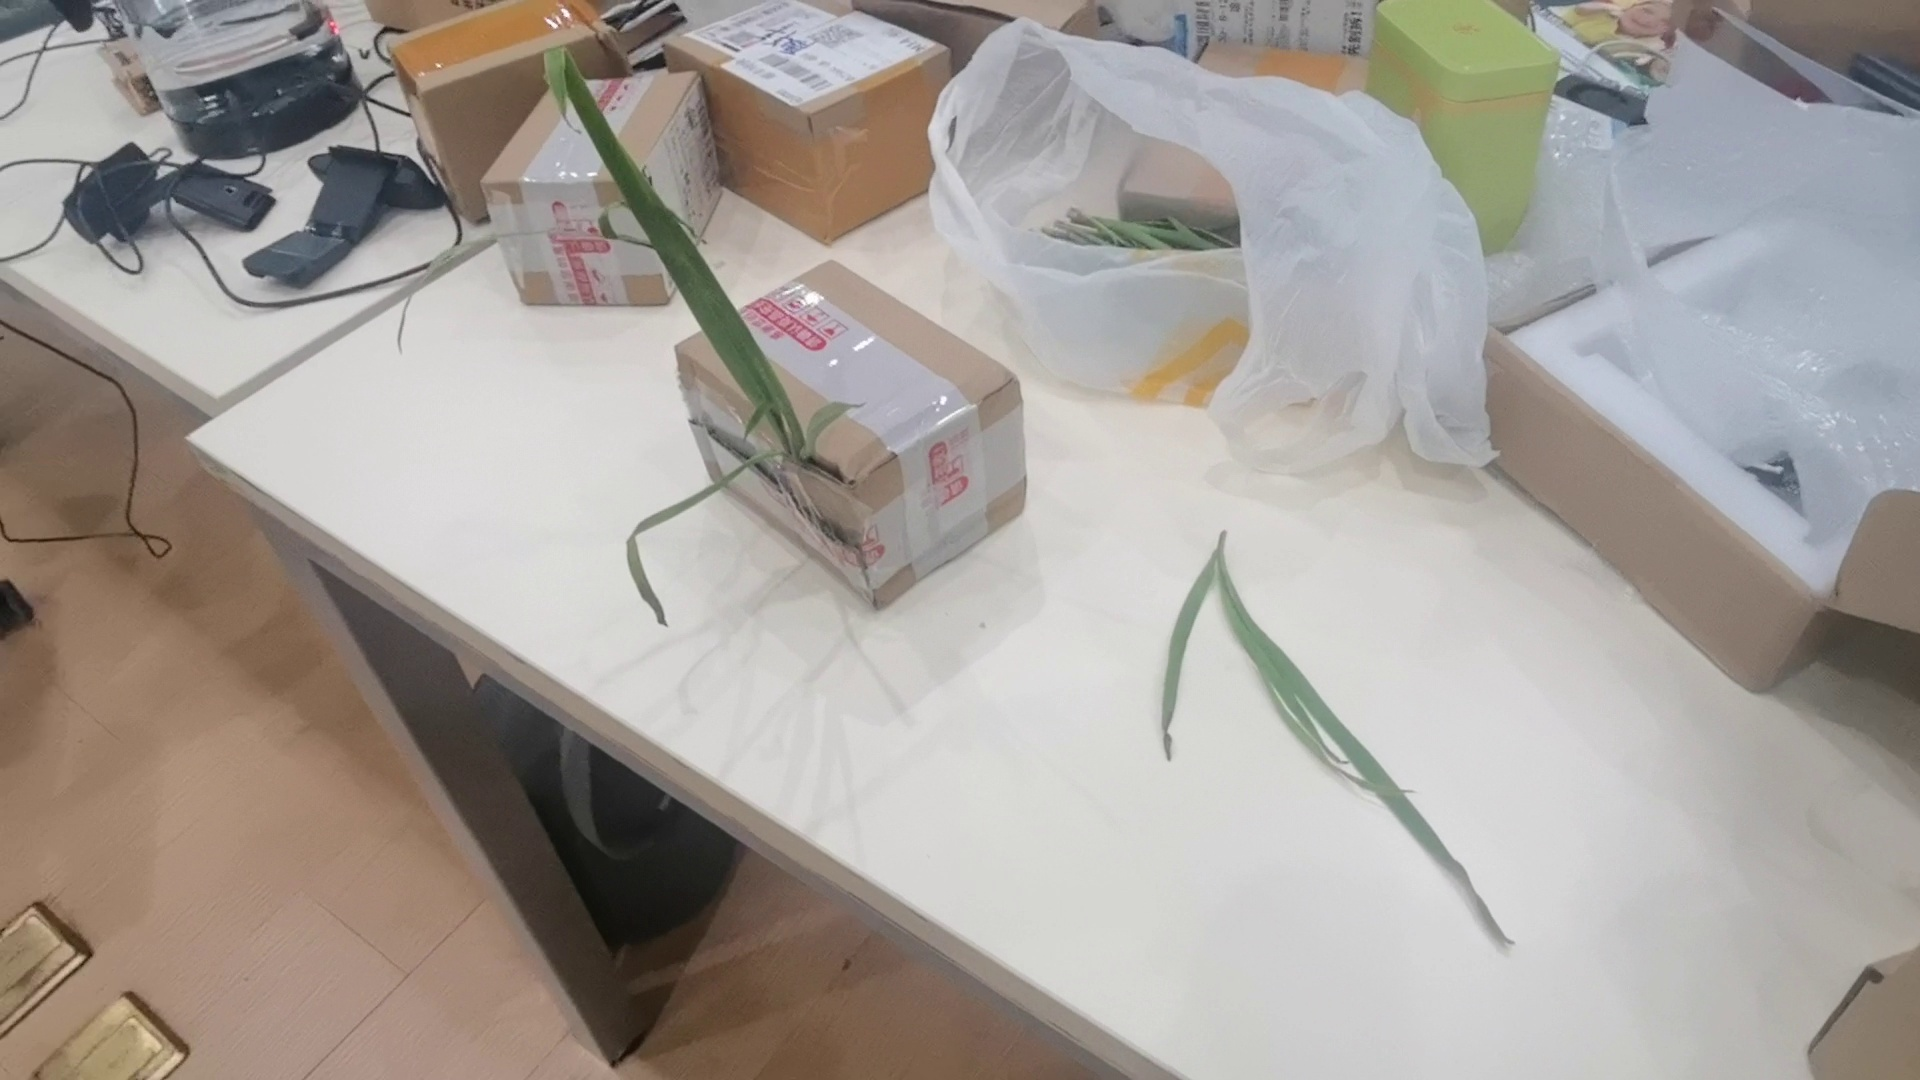chives: (369, 44, 873, 647), (1122, 509, 1522, 967)
